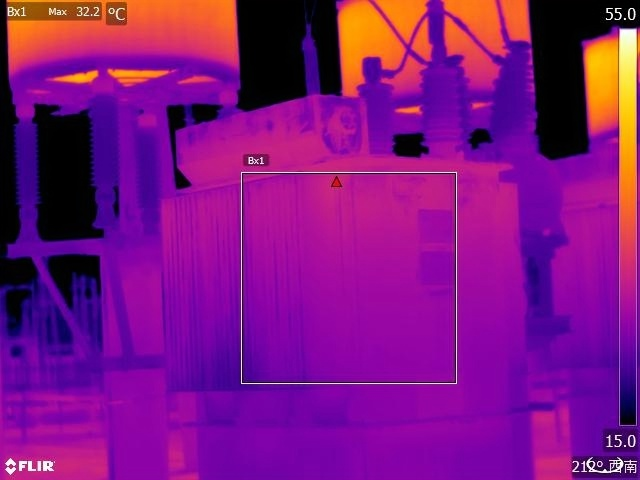capacitor: (1, 1, 248, 101), (334, 1, 541, 94)
post insulator: (84, 91, 121, 199), (130, 116, 167, 221), (15, 109, 44, 217)
transformer: (156, 114, 546, 420)
tube: (482, 37, 537, 145), (353, 51, 408, 153), (415, 53, 467, 150)
